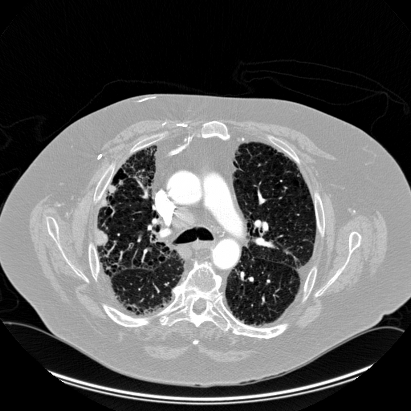nodule: (104, 188, 114, 198)
